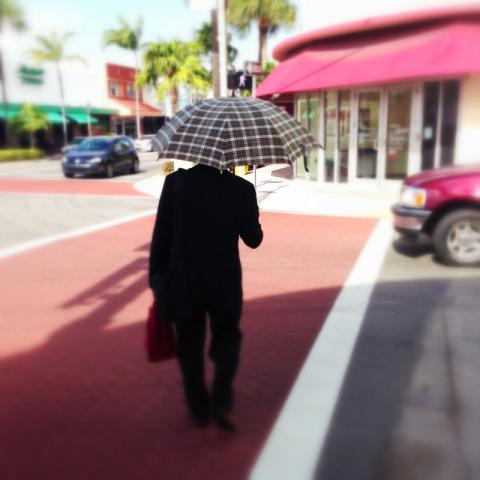car: (389, 157, 480, 268), (61, 136, 140, 178), (60, 137, 88, 155), (134, 135, 155, 152)
